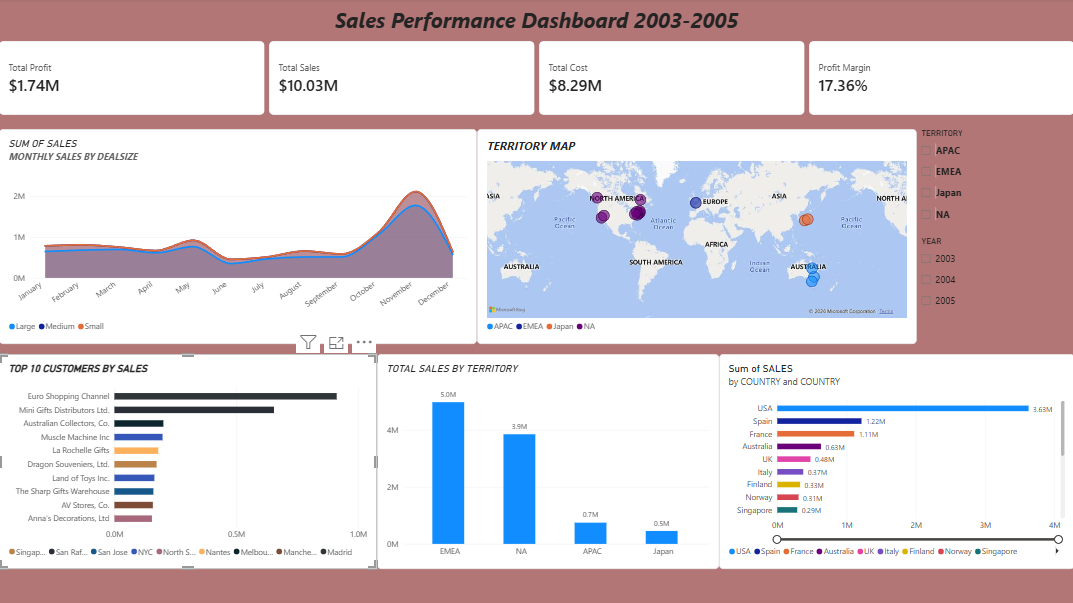

What the dashboard file says about the page in this screenshot:
{"tool":"powerbi","page":{"name":"Page 1","canvas":[1920,1080],"ordinal":0},"visuals":[{"type":"cardVisual","fields":{"Data":["sales_data_sample.total profit","sales_data_sample.total sales","sales_data_sample.total cost","sales_data_sample.profit_margin_%"]},"box":[0,77.3,1920,132.8],"z":1},{"type":"barChart","fields":{"Category":["customer.COUNTRY"],"Series":["customer.COUNTRY"],"Y":["Sum(sales_data_sample.SALES)"]},"box":[1285.3,636.1,634.7,383.7],"z":2},{"type":"clusteredColumnChart","title":"TOTAL SALES BY TERRITORY","fields":{"Category":["customer.TERRITORY"],"Y":["Sum(sales_data_sample.SALES)"]},"box":[674,636.1,611,384],"z":3},{"type":"slicer","fields":{"Values":["customer.TERRITORY"]},"box":[1638.4,233.4,281.6,192.6],"z":4},{"type":"map","title":"TERRITORY MAP","fields":{"Category":["customer.STATE"],"Series":["customer.TERRITORY"]},"box":[853.5,233.4,784.9,383.7],"z":7},{"type":"barChart","title":"TOP 10 CUSTOMERS BY SALES","fields":{"Category":["customer.CUSTOMERNAME"],"Series":["customer.CITY"],"Y":["Sum(sales_data_sample.SALES)"]},"box":[0,636.1,674,384],"z":8},{"type":"slicer","fields":{"Values":["sales_data_sample.YEAR_ID"]},"box":[1638.4,426,281.6,144.4],"z":9},{"type":"areaChart","title":"SUM OF SALES","fields":{"Category":["sales_data_sample.ORDERDATE.Variation.Date Hierarchy.Month"],"Series":["customer.DEALSIZE"],"Y":["Sum(sales_data_sample.SALES)"]},"box":[0,233.4,853.5,383.7],"z":10},{"type":"textbox","box":[0,14.6,1920,62.7],"z":11}]}

Visuals, with their boxes in screenshot pixels (x1, y1, x2, y2), scaled from the page's 1920x1080 canvas onto the 1073x603 screenshot:
cardVisual - sales_data_sample.total profit x sales_data_sample.total sales: 0 43 1072 117
barChart - customer.COUNTRY x customer.COUNTRY: 718 355 1072 569
"TOTAL SALES BY TERRITORY" clusteredColumnChart: 377 355 718 570
slicer - customer.TERRITORY: 916 130 1072 238
"TERRITORY MAP" map: 477 130 916 345
"TOP 10 CUSTOMERS BY SALES" barChart: 0 355 377 570
slicer - sales_data_sample.YEAR_ID: 916 238 1072 318
"SUM OF SALES" areaChart: 0 130 477 345
textbox: 0 8 1072 43
